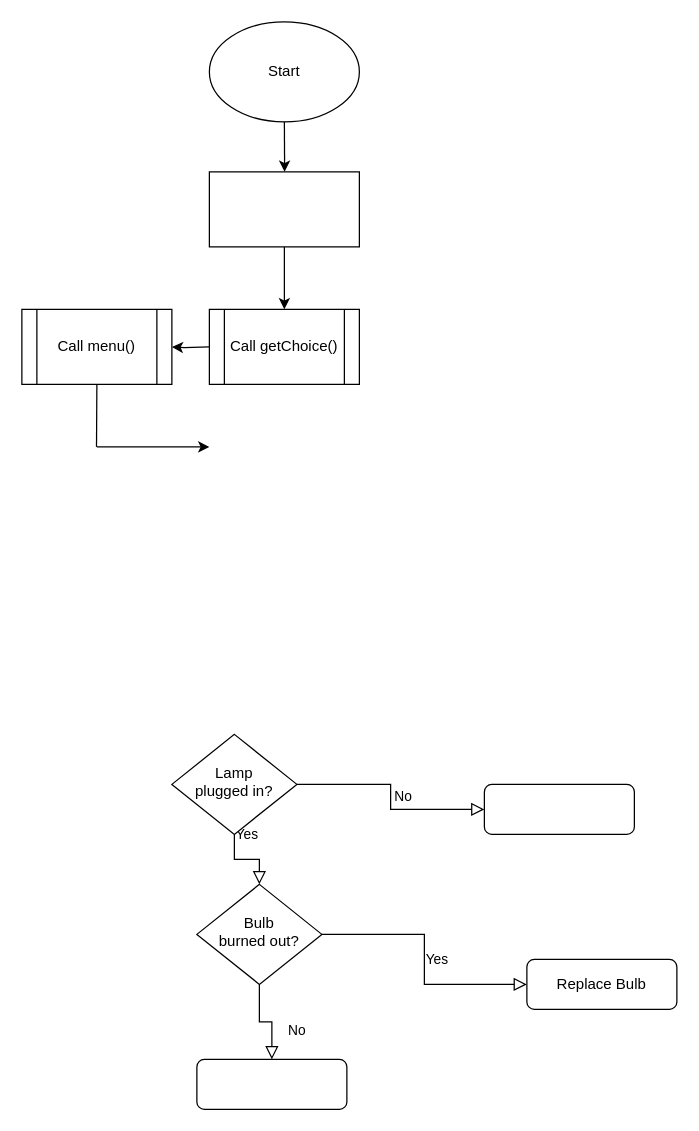
Some shapes in this 699 by 1131 pixel diagram are drawn without their labels. The shapes that lost their labels are listed below. From the top down, each one's centre as x and y in pixels, then its label:
the point at 283,209: Declare int choice
the point at 558,808: Plug in lamp
the point at 271,1083: Repair Lamp
